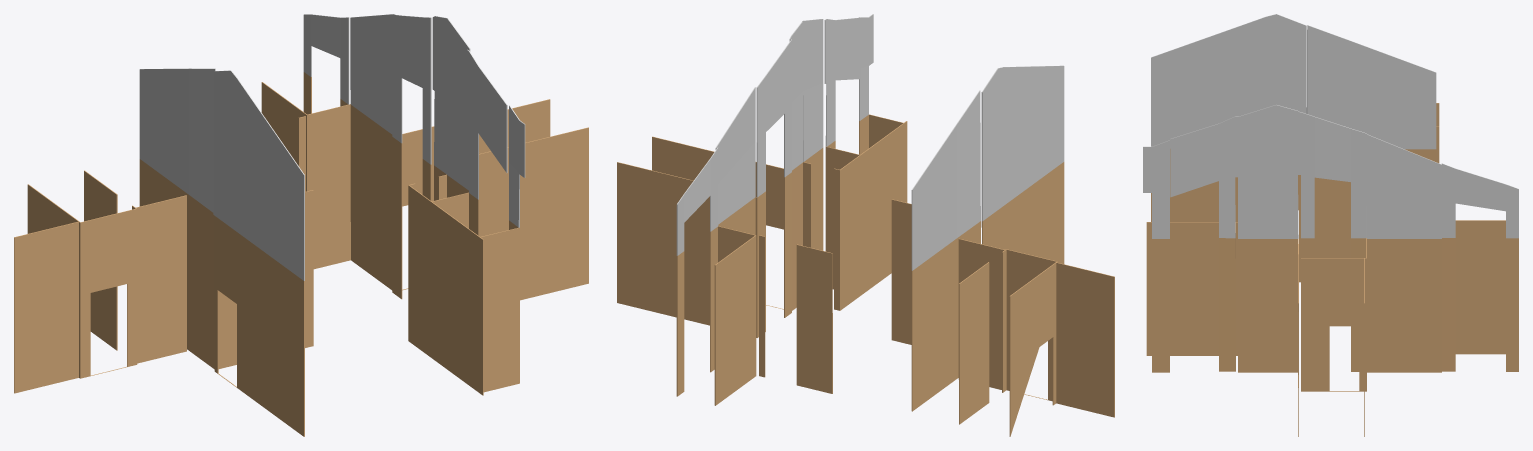
The model's file is houseDivider.fbx.
3 views of the same model, side by side, from view 1: azimuth 30°, elevation 25°; view 2: azimuth 150°, elevation 25°; view 3: azimuth 270°, elevation 25° (orthographic). The views are drawn at different scales.
Parts seen in each view (by area): view 1: house divider; view 2: house divider; view 3: house divider.
Boxes of the visible parts, left/top/right/bottom form: house divider: left=14, top=14, right=588, bottom=436; house divider: left=617, top=14, right=1114, bottom=436; house divider: left=1143, top=14, right=1518, bottom=436.
Bounding box in the file's own units: 1348 × 741 × 942.
